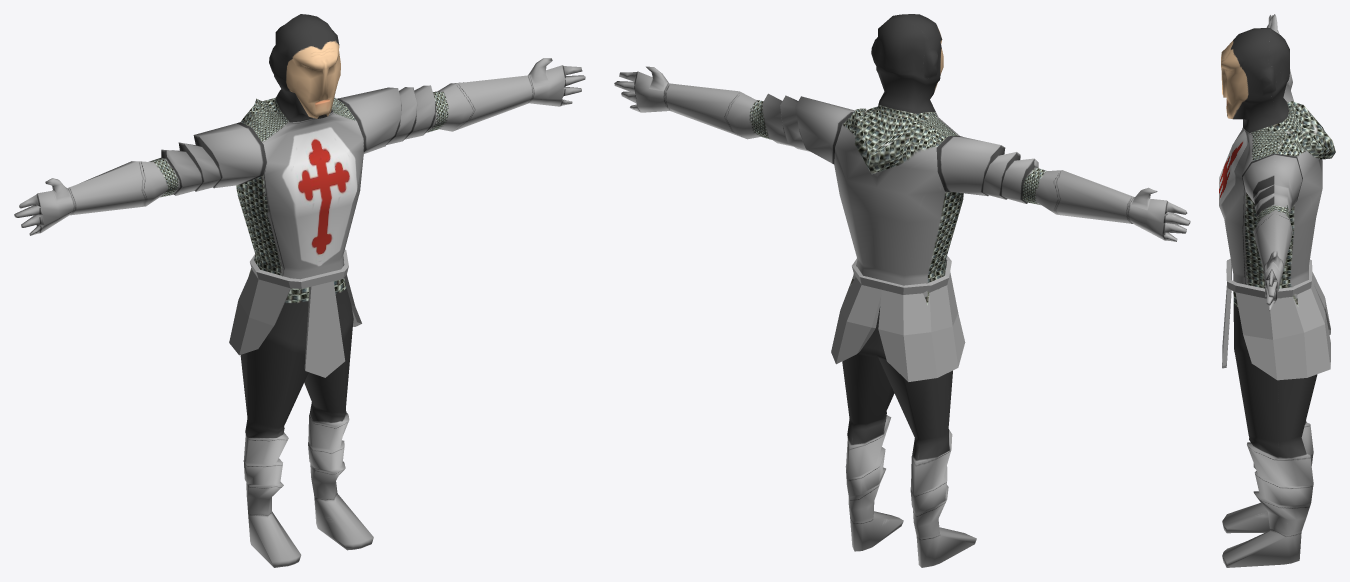
The model's file is OmelRosacruz.fbx.
The picture shows the model from 3 angles, left to right: view 1: azimuth 30°, elevation 25°; view 2: azimuth 150°, elevation 25°; view 3: azimuth 270°, elevation 25°; orthographic projection. The views are drawn at different scales.
Parts seen in each view (by area): view 1: Omel Rosacruz; view 2: Omel Rosacruz; view 3: Omel Rosacruz.
Boxes of the visible parts, left/top/right/bottom form: Omel Rosacruz: left=14, top=14, right=585, bottom=567; Omel Rosacruz: left=614, top=14, right=1190, bottom=567; Omel Rosacruz: left=1219, top=14, right=1335, bottom=567.
Size of the model in its own units: 103 by 90.85 by 18.66.
